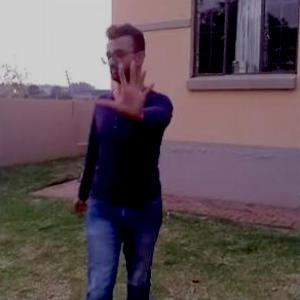follow_hand: (92, 54, 160, 120)
